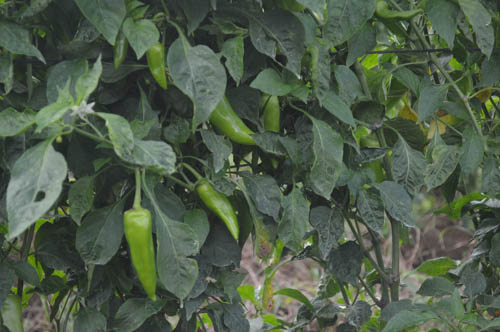ChiliPepper: (121, 210, 160, 303), (196, 182, 239, 244), (212, 98, 260, 148), (146, 45, 169, 91), (378, 5, 427, 20), (263, 94, 279, 134), (113, 36, 127, 71)
